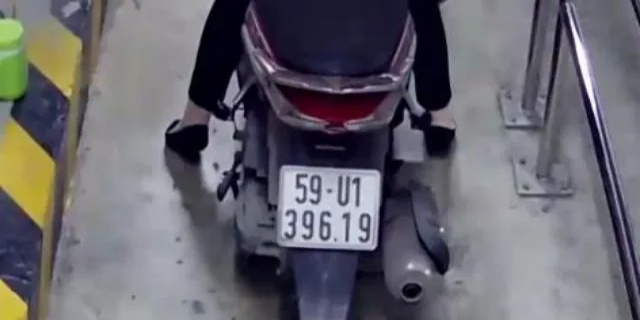bien_so: (279, 163, 378, 251)
